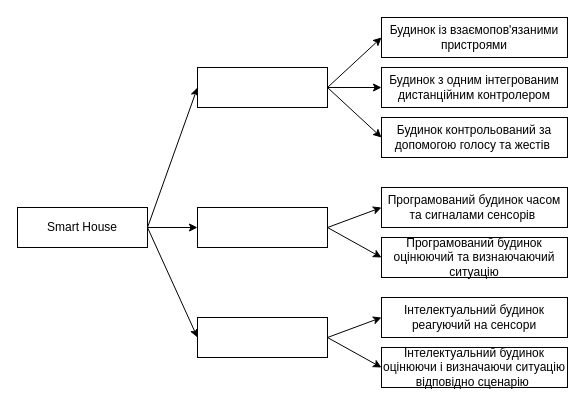
Image size: 585x406. Some labels were removed from this diagram. Here are the shapes that lost their labels. From the top down, the box of each, then its label:
(196, 66, 328, 108): Керований будинок
(196, 206, 328, 248): Програмований будинок
(196, 316, 328, 358): Інтелектуальний будинок
